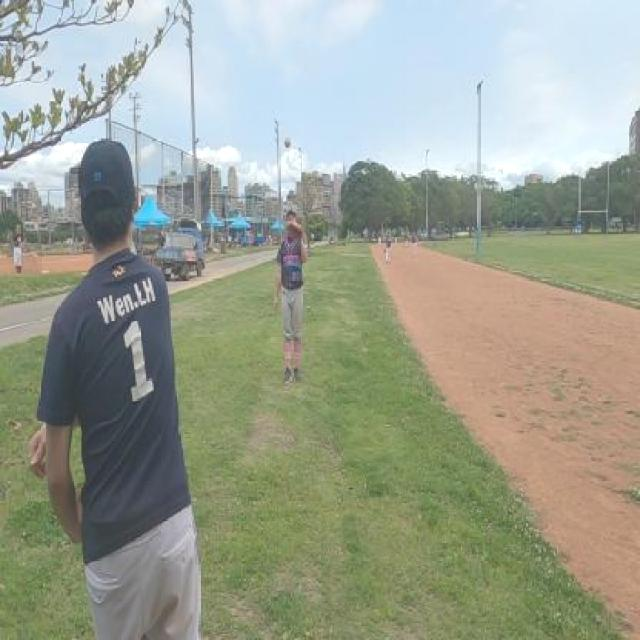sports ball: (284, 136, 292, 148)
